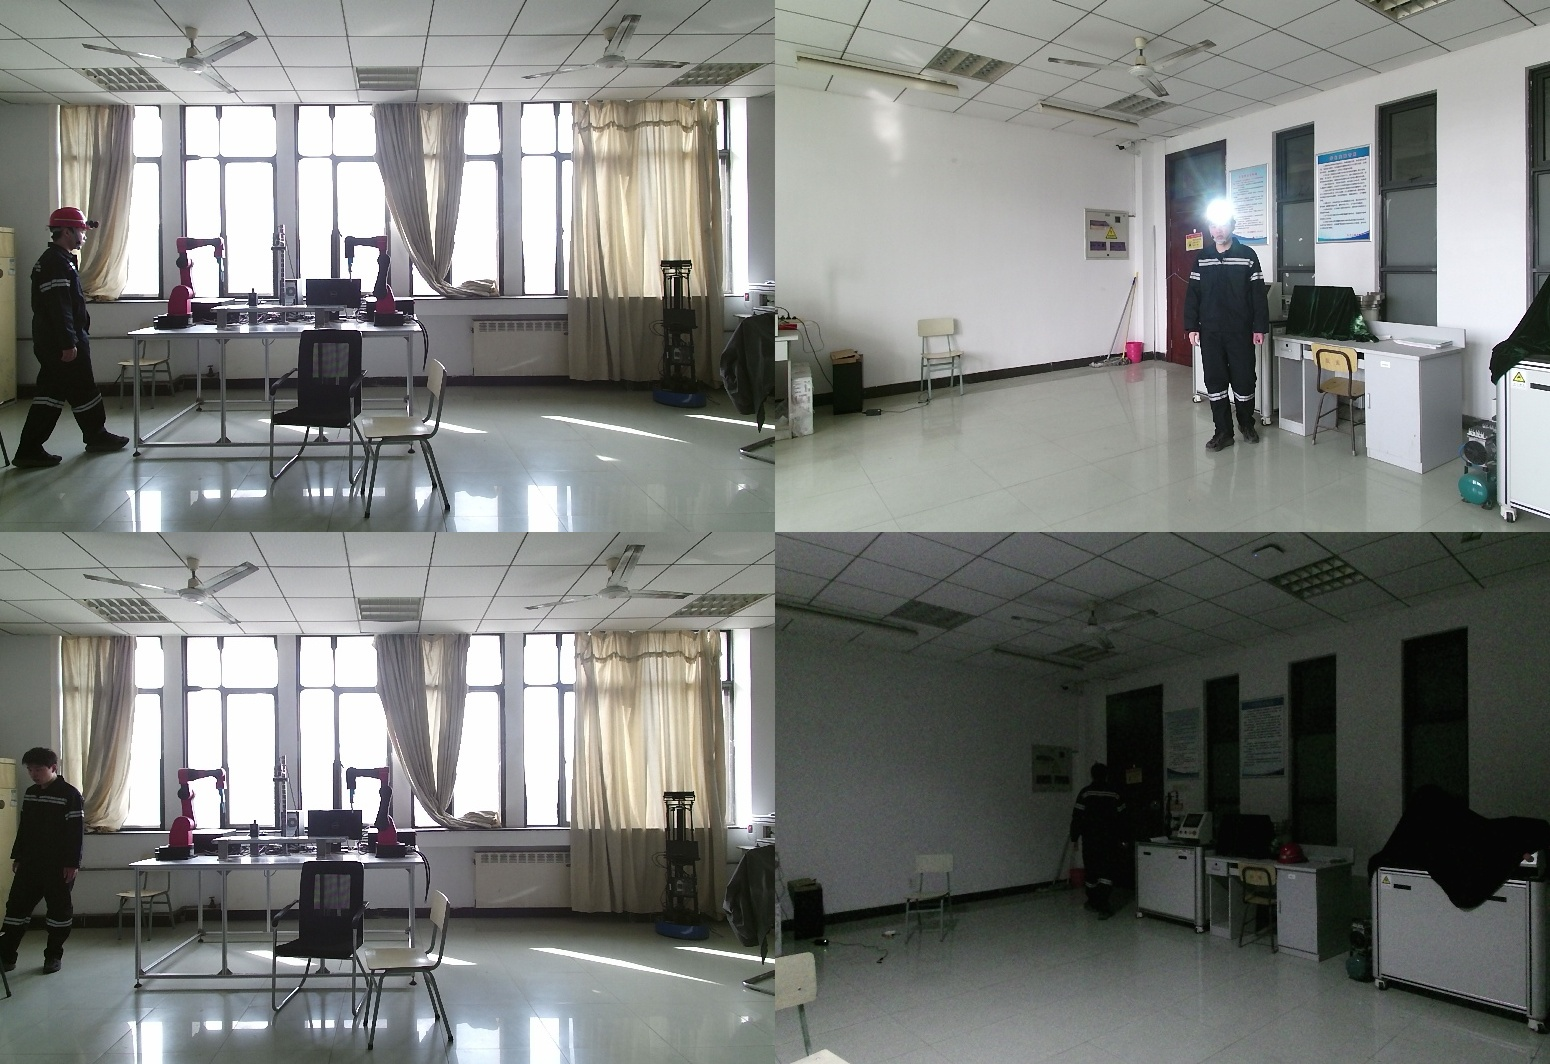person: (12, 207, 130, 467), (1191, 205, 1281, 452), (1, 747, 91, 973), (1070, 765, 1134, 926)
